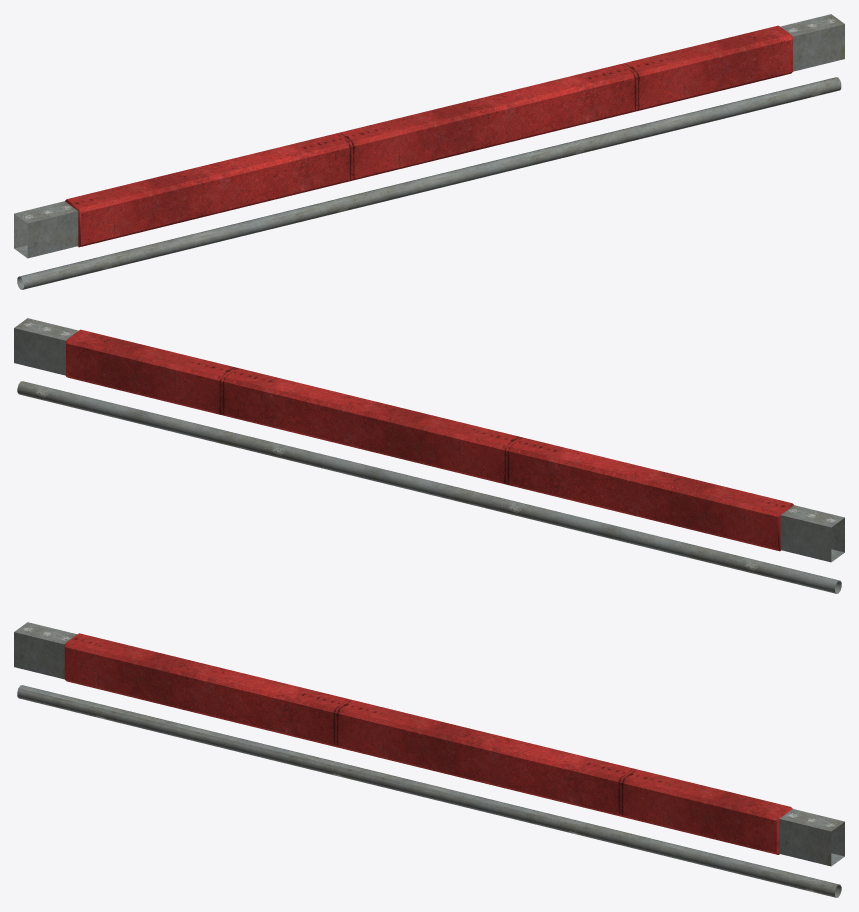
The model's file is Ob_RailingRed_RC.fbx.
3 renders of one model, top to bottom at view 1: azimuth 30°, elevation 25°; view 2: azimuth 150°, elevation 25°; view 3: azimuth 330°, elevation 25°, orthographic.
Parts seen in each view (by area): view 1: Ob_RailingRed_RC; view 2: Ob_RailingRed_RC; view 3: Ob_RailingRed_RC.
Part boxes in pixels (<box>): Ob_RailingRed_RC: <box>14,14,844,289</box>; Ob_RailingRed_RC: <box>14,318,844,593</box>; Ob_RailingRed_RC: <box>14,622,844,897</box>.
Size of the model in its own units: 976 by 83.38 by 33.46.
